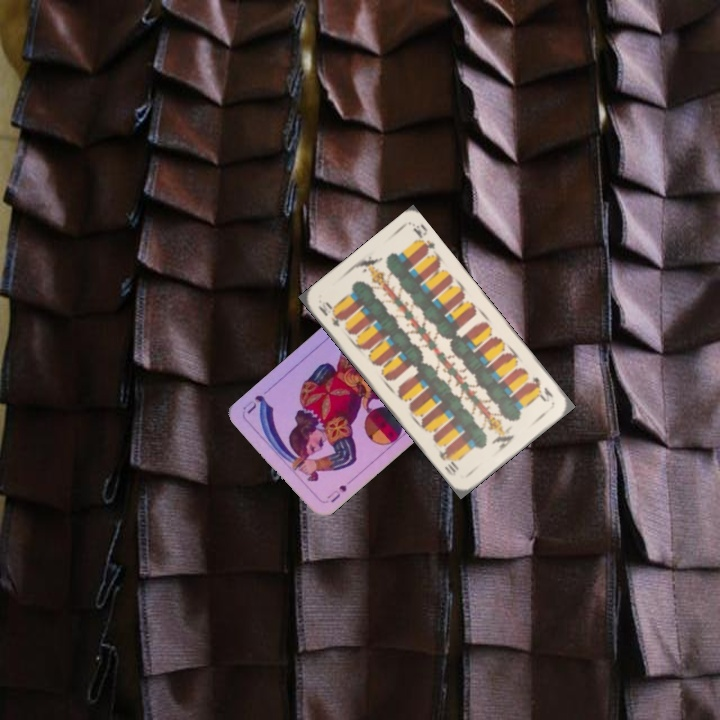E10: (526, 372, 556, 405), (314, 298, 345, 329)
SU: (322, 481, 349, 505)
